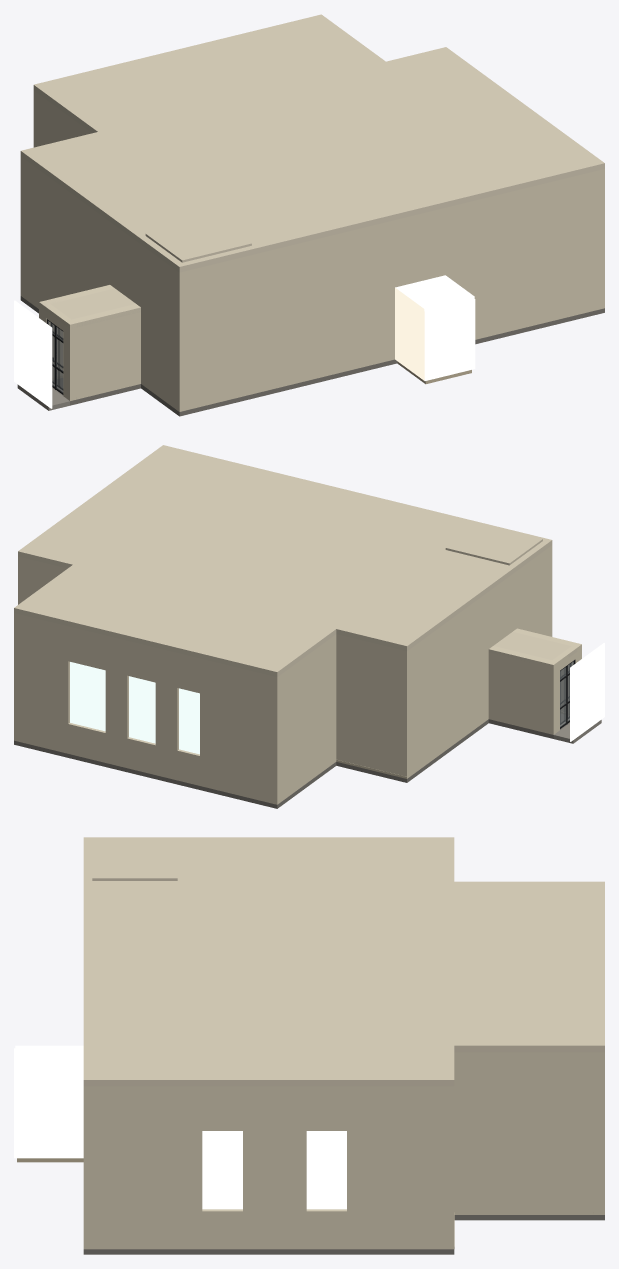
File: software-factory.glb
The picture shows the model from 3 angles, top to bottom: view 1: azimuth 30°, elevation 25°; view 2: azimuth 150°, elevation 25°; view 3: azimuth 270°, elevation 25°; orthographic projection. The views are drawn at different scales.
Visible parts, largest first — view 1: Techo_TechoCrema, Muros_MuroCrema, Muros_VestibuloLuz, Puertas_LuzExterior, Suelo_ConcretoPiso, Puertas_AceroNegro, Puertas_VidrioPuerta; view 2: Techo_TechoCrema, Muros_MuroCrema, Ventanas_BloqueVidrio, Suelo_ConcretoPiso, Puertas_LuzExterior, Puertas_AceroNegro, Puertas_VidrioPuerta; view 3: Techo_TechoCrema, Muros_MuroCrema, Muros_VestibuloLuz, Ventanas_BloqueVidrio, Suelo_ConcretoPiso.
Part boxes in pixels (x1,y1,x2,y2): Techo_TechoCrema: (20,14,604,328); Muros_MuroCrema: (20,91,604,411); Muros_VestibuloLuz: (395,275,475,380); Puertas_LuzExterior: (14,300,52,408); Suelo_ConcretoPiso: (20,296,604,416); Puertas_AceroNegro: (46,319,63,394); Puertas_VidrioPuerta: (48,321,63,392); Techo_TechoCrema: (14,445,581,677); Muros_MuroCrema: (14,545,581,804); Ventanas_BloqueVidrio: (70,662,199,754); Suelo_ConcretoPiso: (14,714,569,808); Puertas_LuzExterior: (570,643,604,741); Puertas_AceroNegro: (560,660,575,728); Puertas_VidrioPuerta: (560,661,573,726); Techo_TechoCrema: (83,837,604,1086); Muros_MuroCrema: (83,1052,604,1249); Muros_VestibuloLuz: (14,1045,83,1158); Ventanas_BloqueVidrio: (202,1131,346,1209); Suelo_ConcretoPiso: (83,1215,604,1254).
Size of the model in its own units: 24.12 by 6.75 by 20.4.
